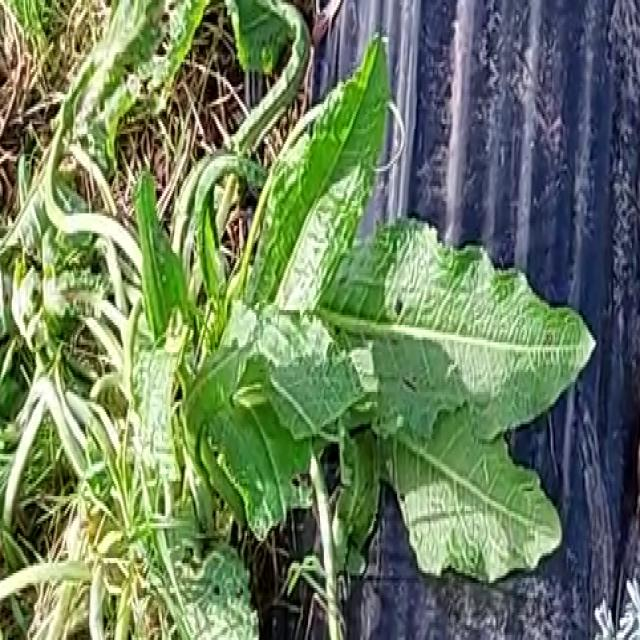organic waste: (29, 5, 640, 640)
